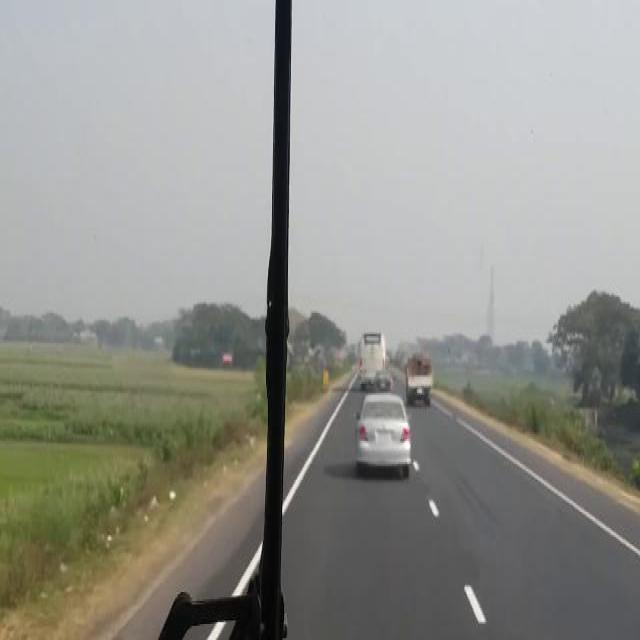bus: (357, 333, 385, 385)
car: (353, 395, 412, 473)
three wheelers -CNG-: (374, 370, 394, 391)
truck: (404, 354, 432, 402)
